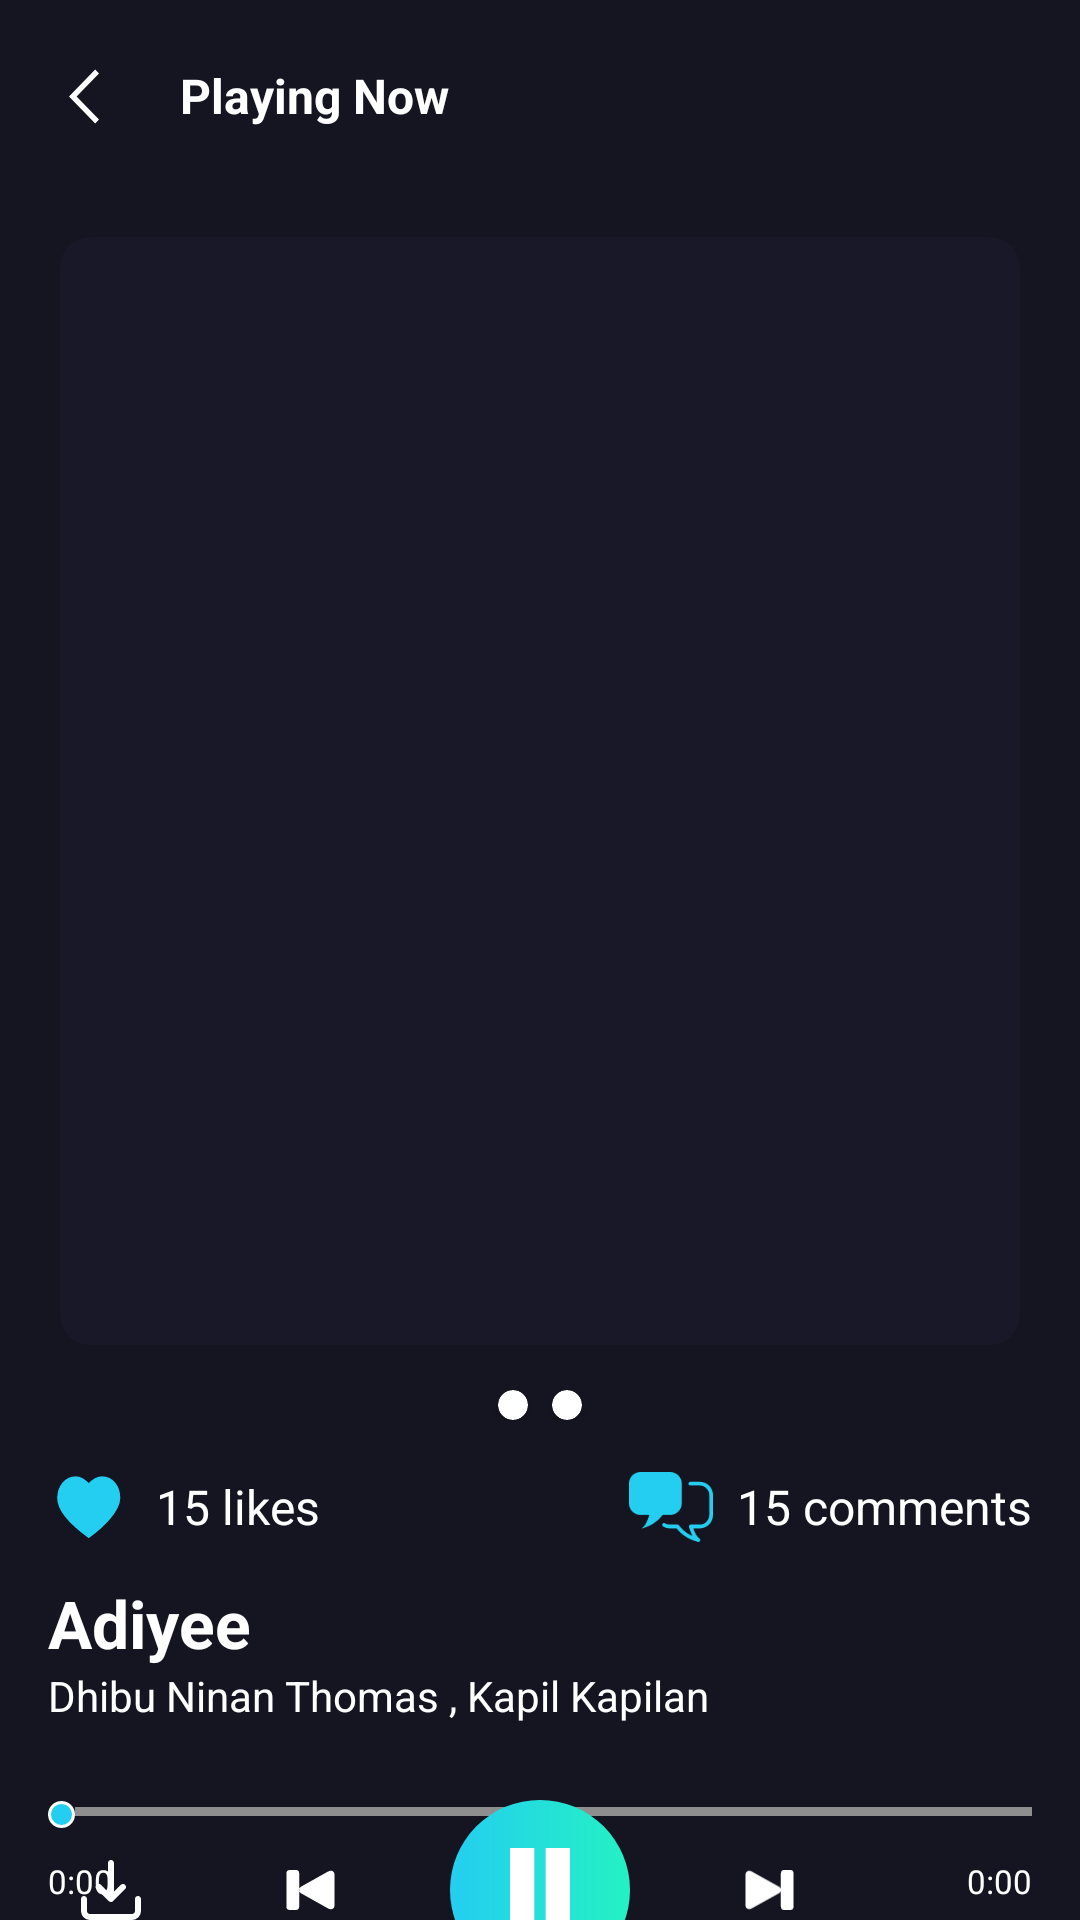

Icon bounding boxes for this 1080x1920 phone screenshot, format [x1=x1, y1=y1, x2=x2, y2=y2]:
heart: [x1=57, y1=1476, x2=121, y2=1538]
next: [x1=745, y1=1870, x2=794, y2=1910]
previous: [x1=286, y1=1870, x2=335, y2=1910]
